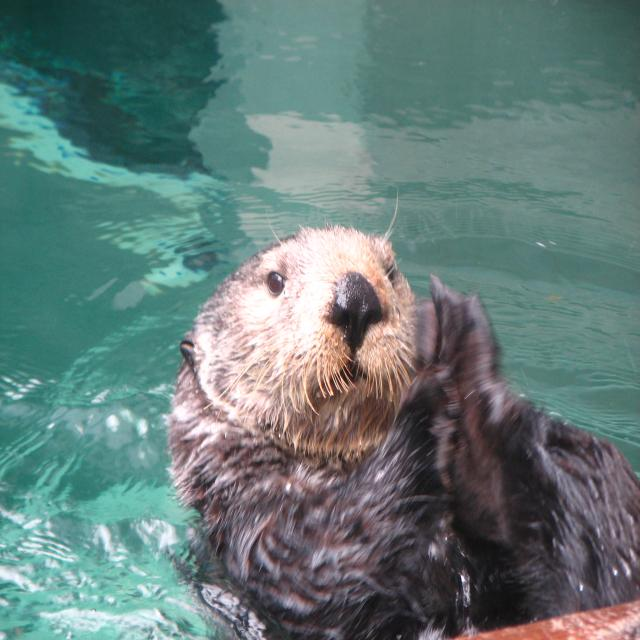otter: (176, 228, 640, 640)
